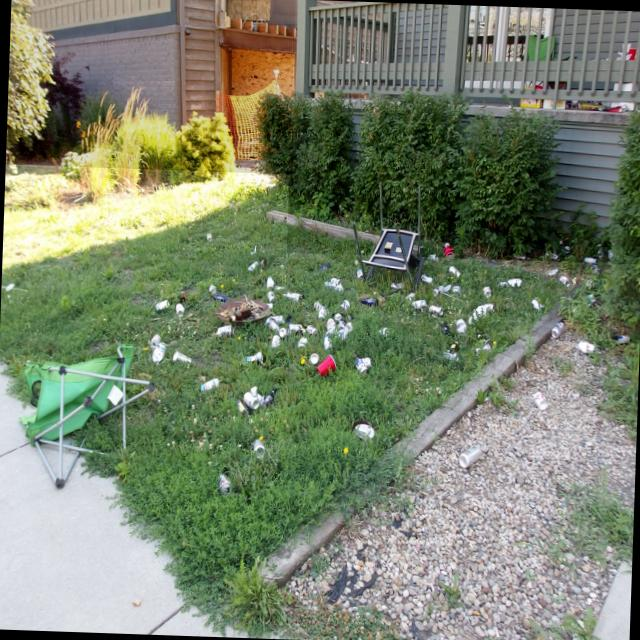House: (286, 0, 640, 264), (5, 0, 296, 174)
